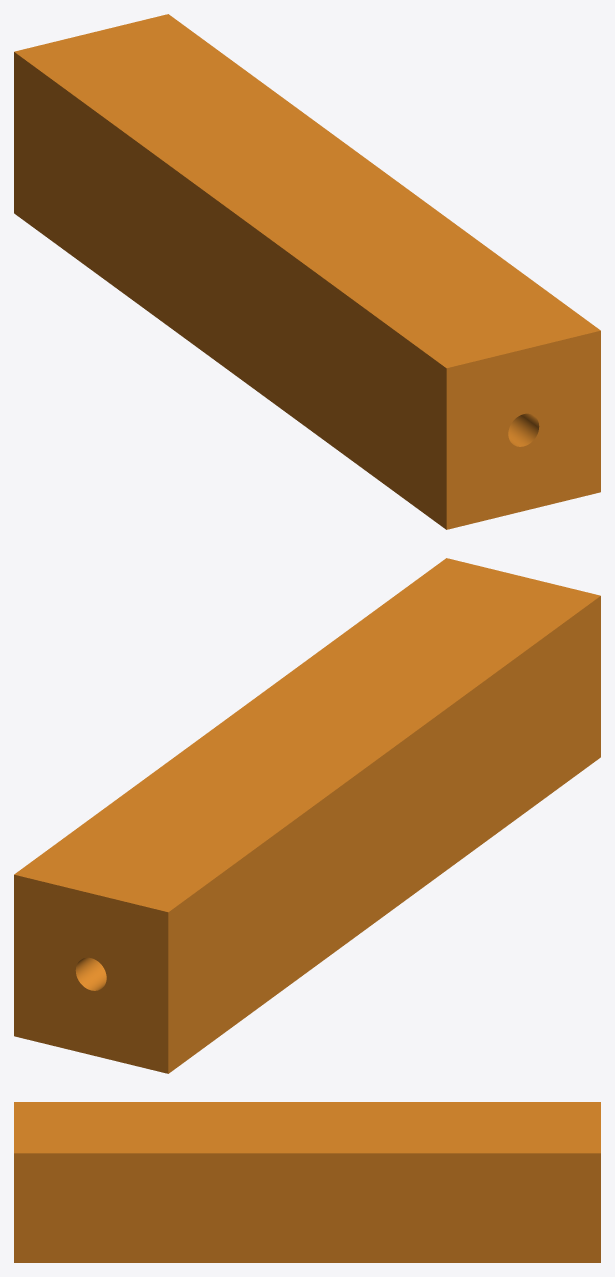
Rendered from mag_espacador.glb.
3 renders of one model, top to bottom at view 1: azimuth 30°, elevation 25°; view 2: azimuth 150°, elevation 25°; view 3: azimuth 270°, elevation 25°, orthographic. The views are drawn at different scales.
Visible parts, largest first — view 1: mag_espacador; view 2: mag_espacador; view 3: mag_espacador.
Part boxes in pixels (x1,y1,x2,y2): mag_espacador: (14, 14, 600, 529); mag_espacador: (14, 558, 600, 1073); mag_espacador: (14, 1102, 600, 1262).
Size of the model in its own units: 20 by 20 by 97.
